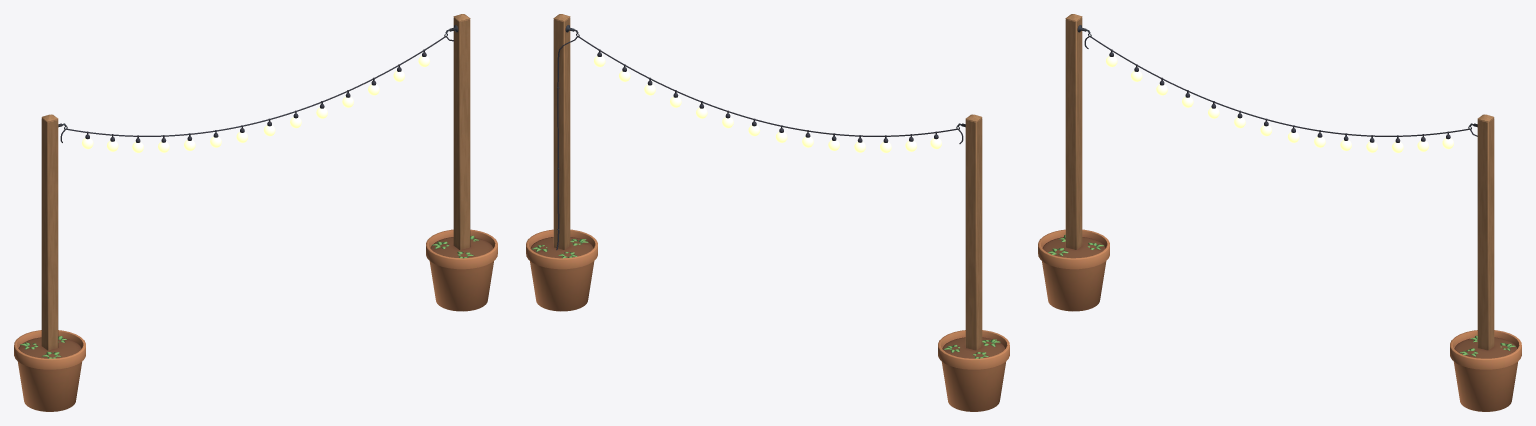
The model's file is string-lights.glb.
3 views of the same model, side by side, from view 1: azimuth 30°, elevation 25°; view 2: azimuth 150°, elevation 25°; view 3: azimuth 330°, elevation 25° (orthographic).
Parts seen in each view (by area): view 1: string-lights_body, string-lights_bulbs; view 2: string-lights_body, string-lights_bulbs; view 3: string-lights_body, string-lights_bulbs.
Boxes of the visible parts, x1=… form: string-lights_body: x1=14, y1=14, x2=497, y2=411; string-lights_bulbs: x1=82, y1=56, x2=429, y2=152; string-lights_body: x1=526, y1=14, x2=1009, y2=411; string-lights_bulbs: x1=594, y1=56, x2=941, y2=152; string-lights_body: x1=1038, y1=14, x2=1521, y2=411; string-lights_bulbs: x1=1106, y1=56, x2=1453, y2=152.
Bounding box in the file's own units: 3.69 × 2.13 × 0.486.
2 materials, 1 textured.
